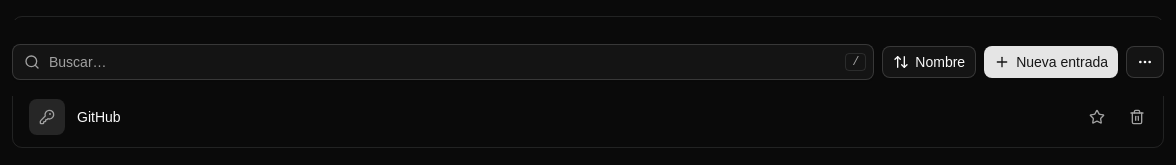
Test: searching › clearing the search brings the whole list back
Expected: the text "GitHub" is shown, left=77, top=107, right=121, bottom=127
Type "banco" into the search field named "Buscar en la vault" at (443, 62), box left=12, top=44, right=874, bottom=80
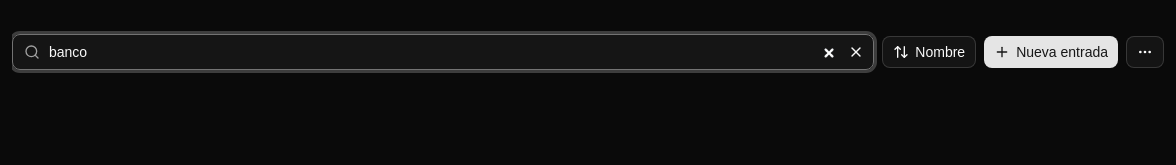
Click the button named "Limpiar la búsqueda" at (856, 52), box left=842, top=38, right=870, bottom=66
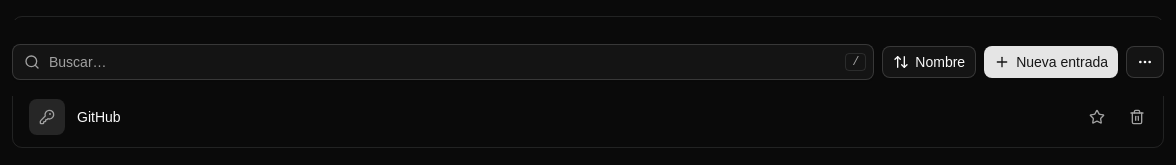
Expected: the text "Banco" is shown, left=77, top=37, right=117, bottom=57
Result: the text "GitHub" is shown at left=77, top=107, right=121, bottom=127
